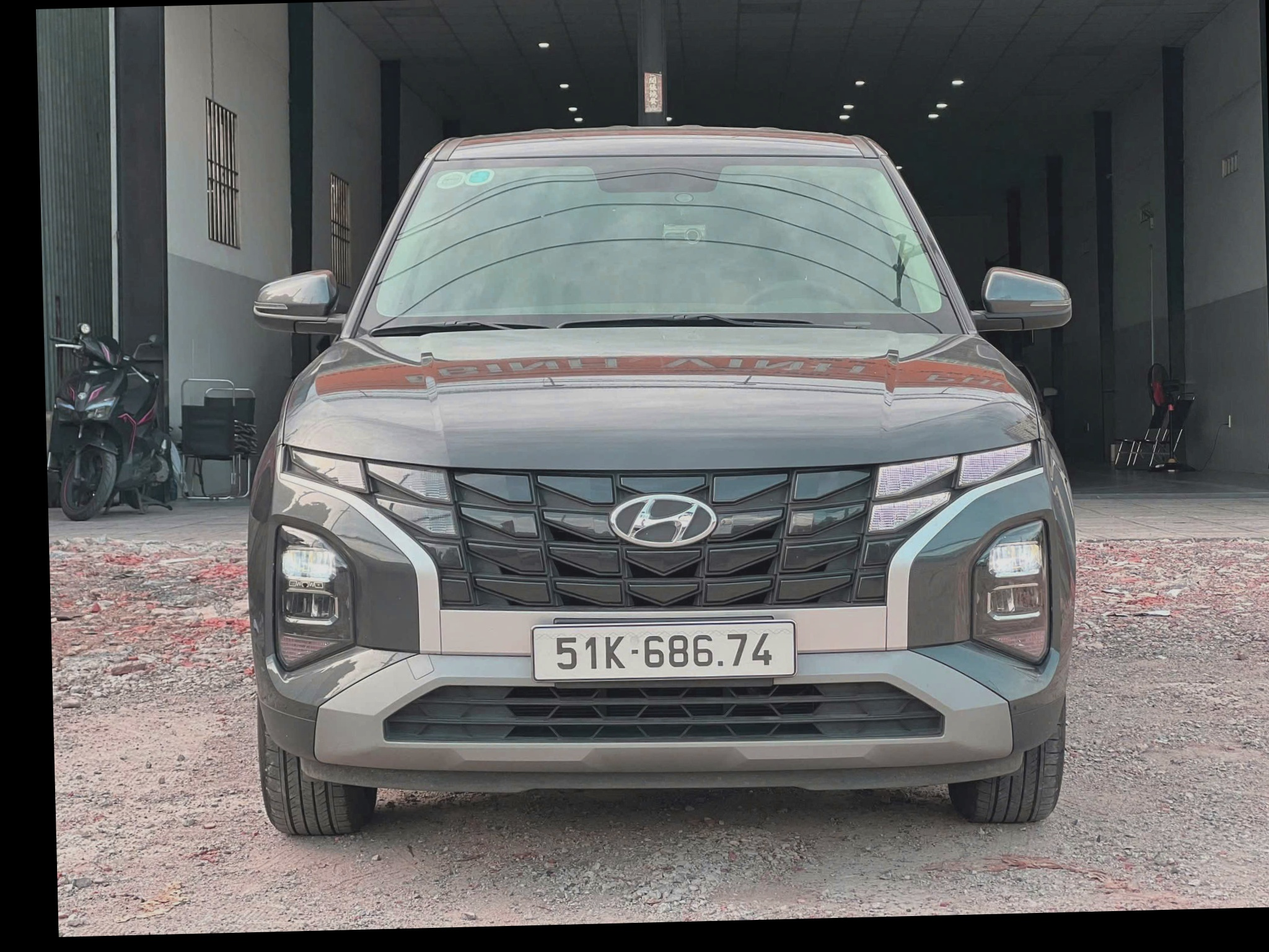Bien-so: (481, 631, 776, 696)
